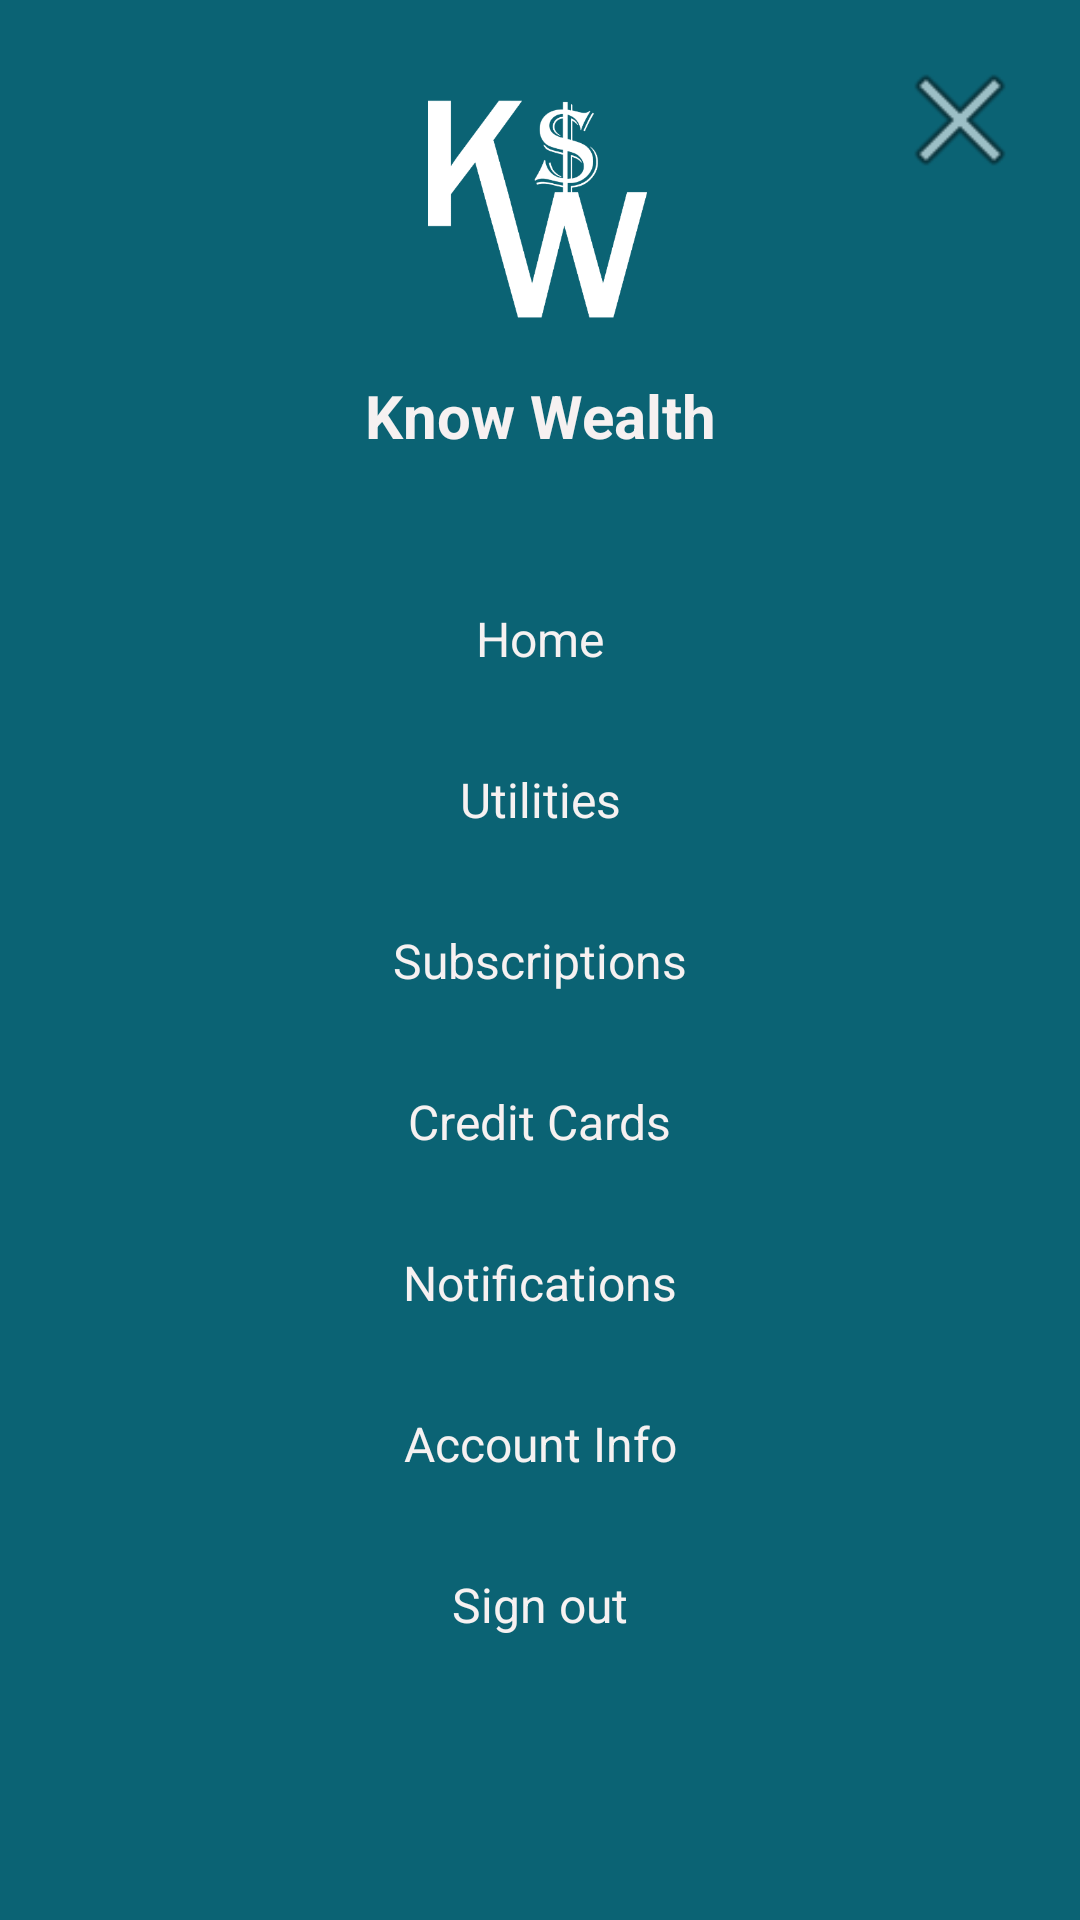

Point at icon controls on the screen. Image size 1080*1920, points as (x,y).
close clear cancel: (960,120)
